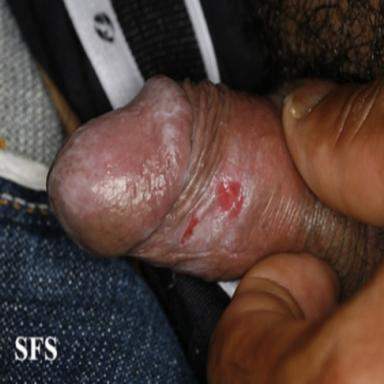lichen: (172, 135, 255, 259)
